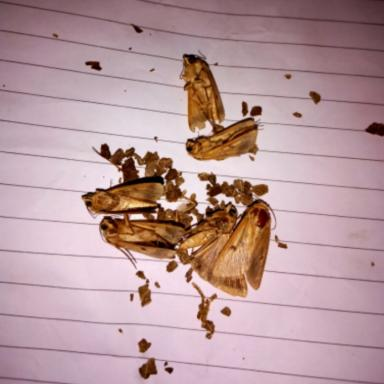abw: (188, 195, 277, 298), (96, 212, 186, 270), (177, 46, 227, 133), (179, 201, 240, 263), (183, 117, 265, 162), (78, 178, 166, 219)
